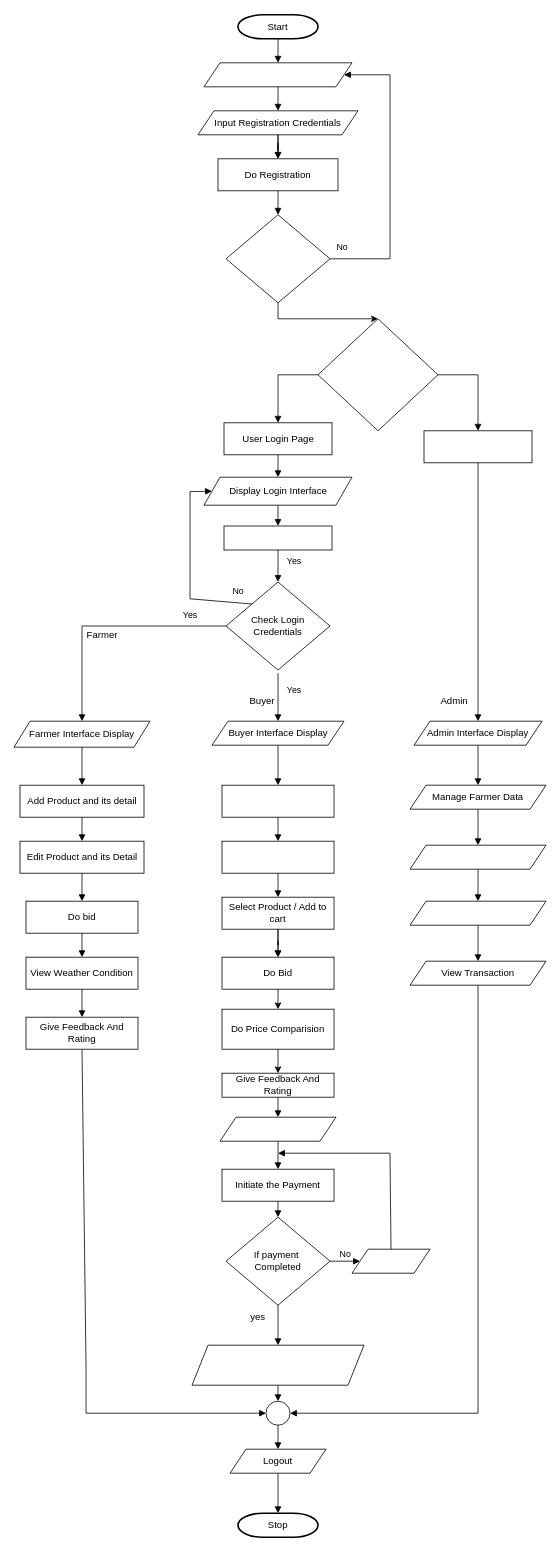
Some shapes in this 560 by 1551 pixel diagram are drawn without their labels. Here are the shapes that lost their labels. From the top down, the centre of each, then its label:
the point at 277,74: Display Registration Page
the point at 277,258: If registration successful?
the point at 377,374: Show Login Page Admin/User
the point at 477,446: Admin Login Page
the point at 277,537: Input Login Credentials
the point at 277,800: See Product
the point at 277,856: Search Product
the point at 477,856: Manage Buyer Data
the point at 477,912: Manage Record
the point at 277,1128: Display Total Price
the point at 390,1260: Retry
the point at 277,1364: Payment Completed Successfully
